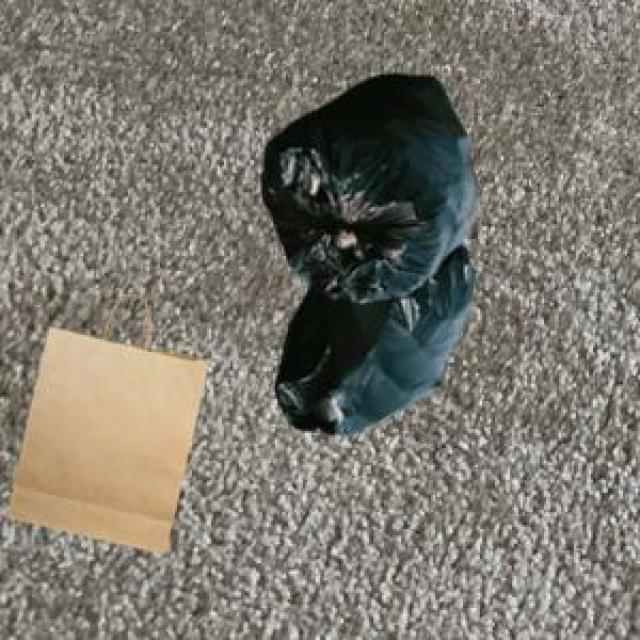miscellaneous trash: (258, 70, 476, 431)
paper: (4, 322, 203, 548)
